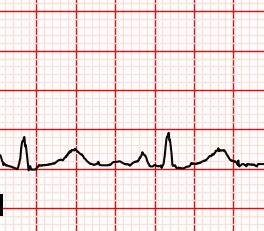LVH: (196, 146, 240, 170), (54, 147, 95, 170)
Poor R Progression: (14, 133, 35, 171), (161, 131, 180, 170)
